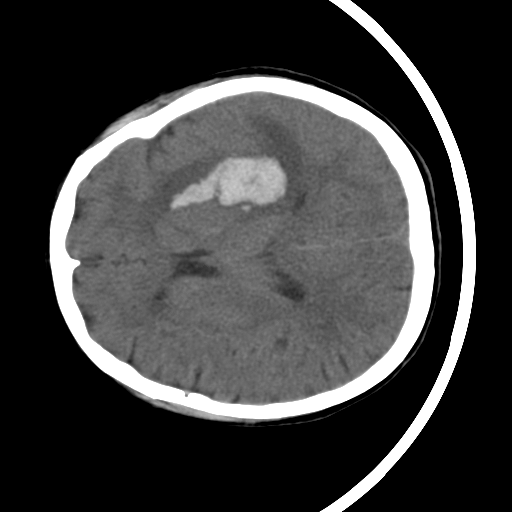a: (133, 97, 321, 242)
